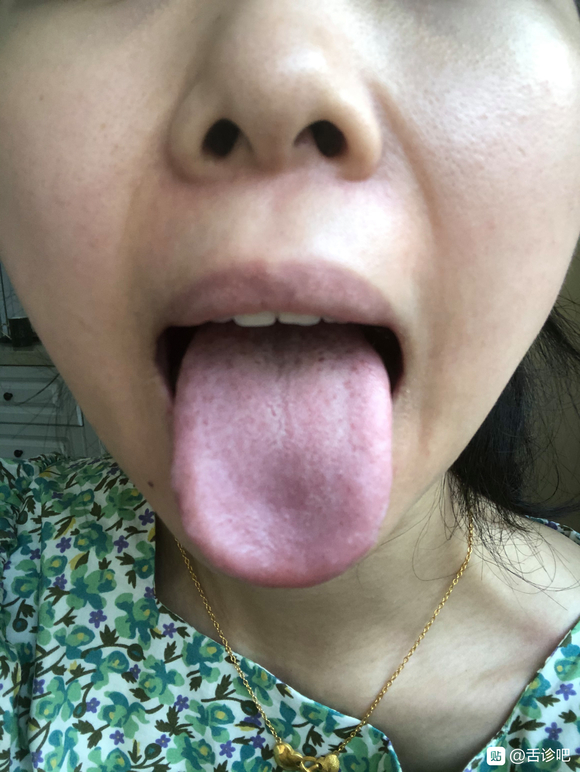baitaishe: (170, 319, 393, 589)
hongdianshe: (315, 353, 326, 364)
